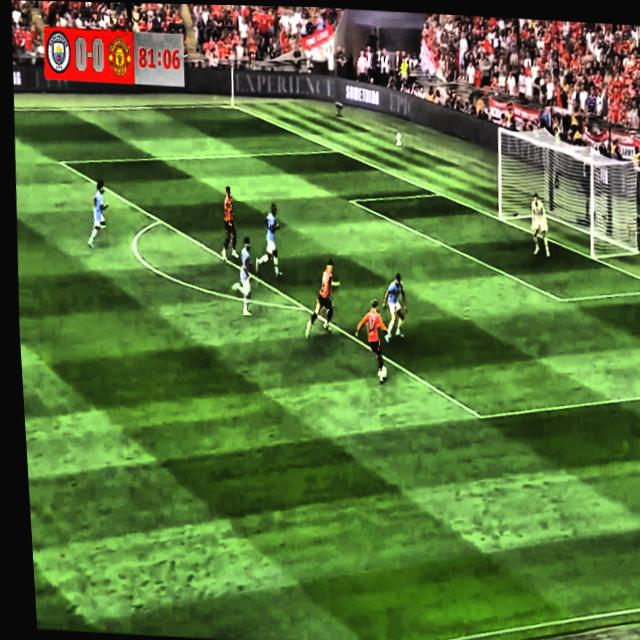ball: (375, 356, 392, 389)
goal_keeper: (524, 184, 556, 261)
players: (299, 254, 344, 347), (78, 168, 118, 259), (250, 198, 288, 284), (351, 296, 389, 381), (379, 263, 413, 352), (226, 227, 256, 320), (215, 183, 245, 265)
